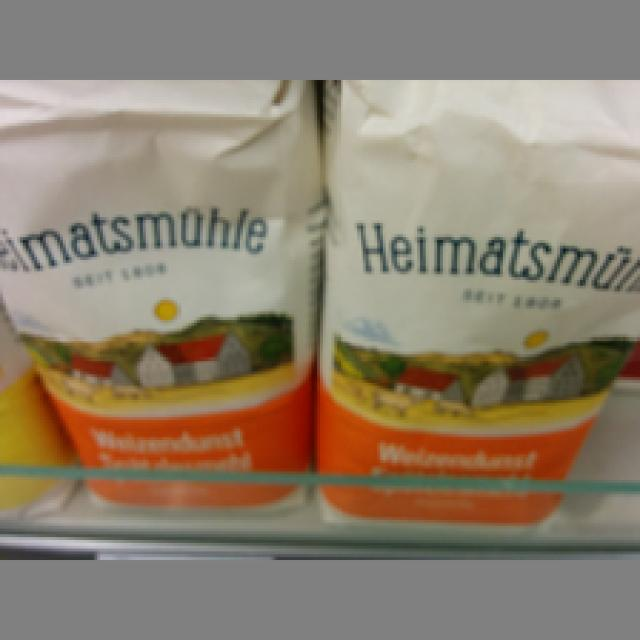groceries: (312, 80, 637, 523), (0, 77, 320, 506)
